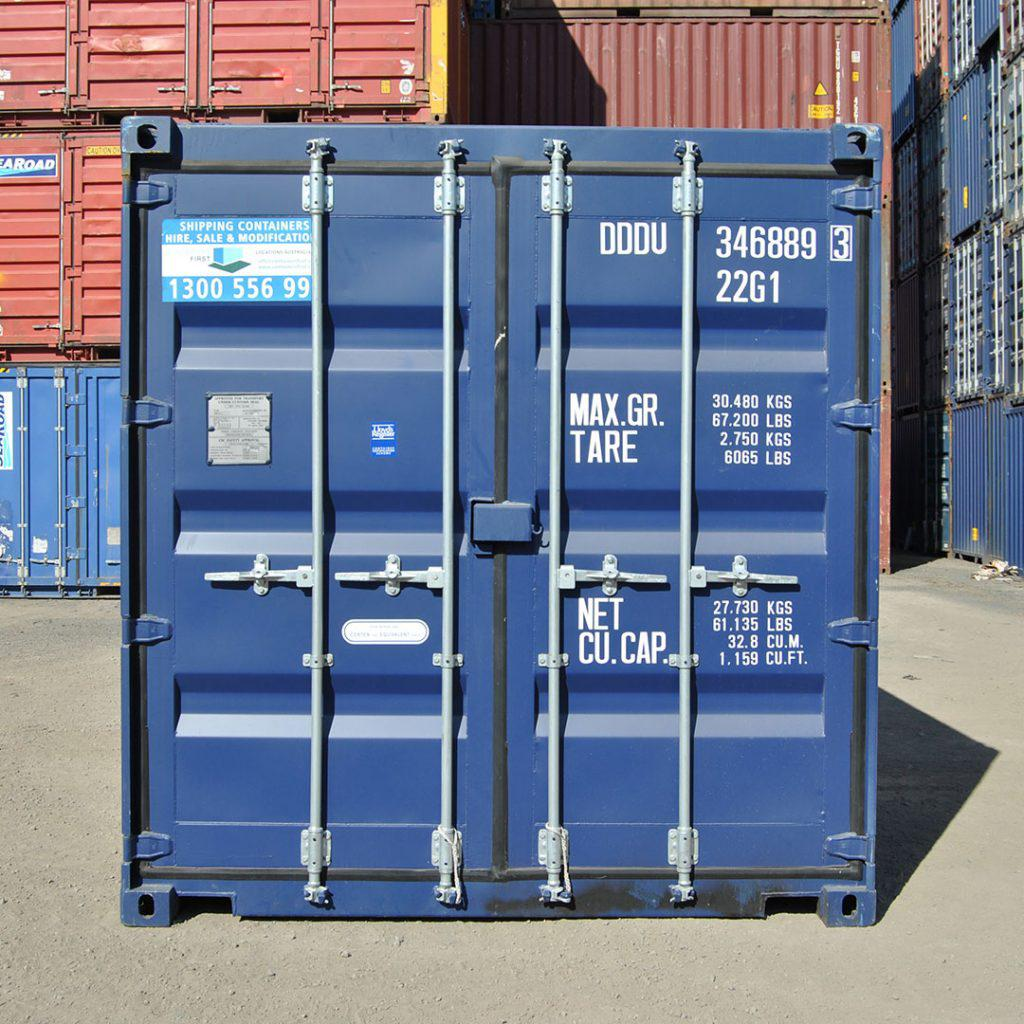ContainerNum: (594, 217, 856, 308)
